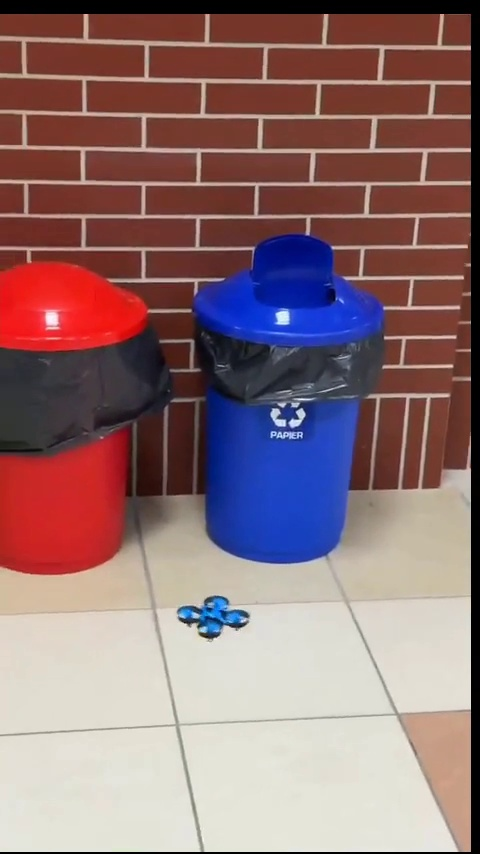drone: (177, 594, 248, 640)
